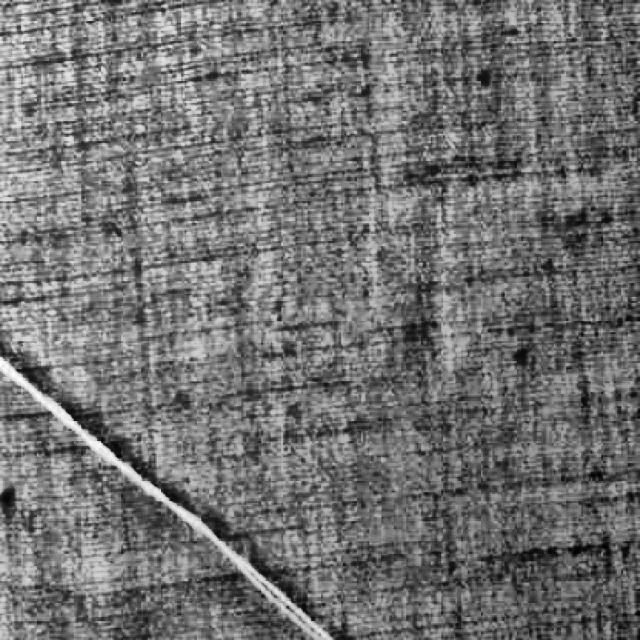objects: (0, 341, 334, 638)
